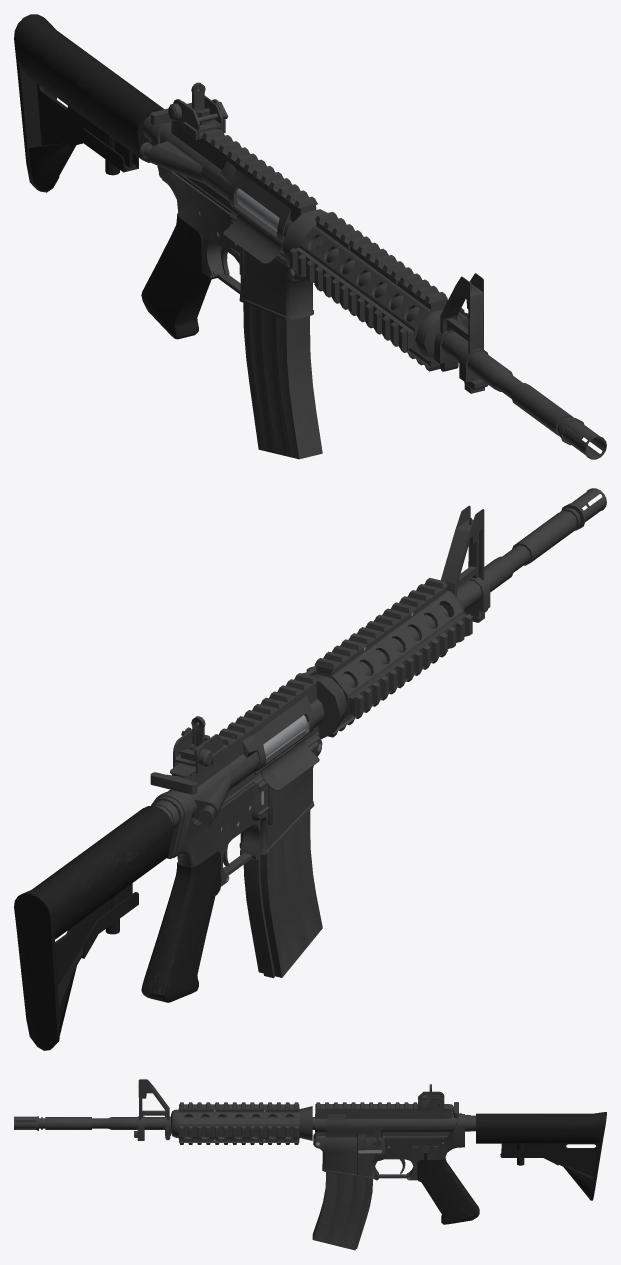
3 renders of one model, top to bottom at view 1: azimuth 30°, elevation 25°; view 2: azimuth 150°, elevation 25°; view 3: azimuth 270°, elevation 25°, orthographic. The views are drawn at different scales.
Visible parts, largest first — view 1: Base, Barrel, Stock, Magazine, Ejector_Lid, Sight, Ejector_2; view 2: Base, Barrel, Stock, Magazine, Ejector_Lid, Sight; view 3: Base, Barrel, Stock, Magazine, Sight.
Part boxes in pixels (<box>): Base: <box>139,120,317,339</box>; Barrel: <box>282,209,606,459</box>; Stock: <box>14,14,164,192</box>; Magazine: <box>243,303,322,459</box>; Ejector_Lid: <box>223,205,283,263</box>; Sight: <box>173,95,225,140</box>; Ejector_2: <box>235,188,279,230</box>; Base: <box>141,673,324,1002</box>; Barrel: <box>302,488,606,739</box>; Stock: <box>14,800,179,1050</box>; Magazine: <box>243,810,322,978</box>; Ejector_Lid: <box>254,732,319,790</box>; Sight: <box>173,727,225,773</box>; Base: <box>313,1102,479,1224</box>; Barrel: <box>14,1079,314,1144</box>; Stock: <box>465,1112,606,1200</box>; Magazine: <box>312,1151,372,1250</box>; Sight: <box>418,1091,444,1111</box>.
Bounding box in the file's own units: 0.0652 × 0.2729 × 0.88.
Materials: 1 (1 with a texture image).
